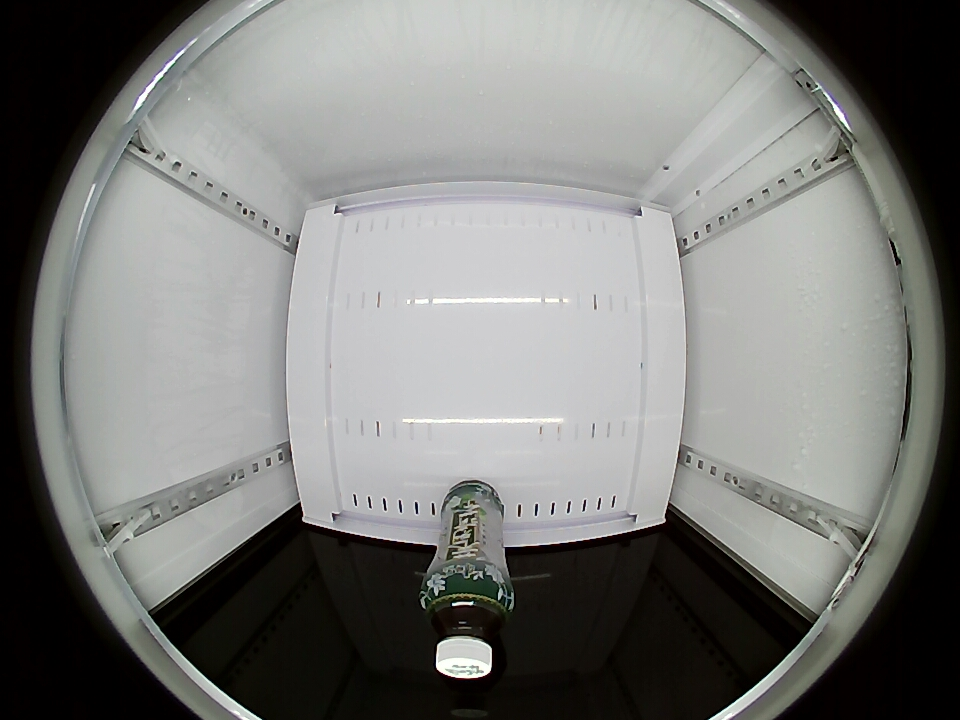moliqingcha: (421, 572, 513, 679)
